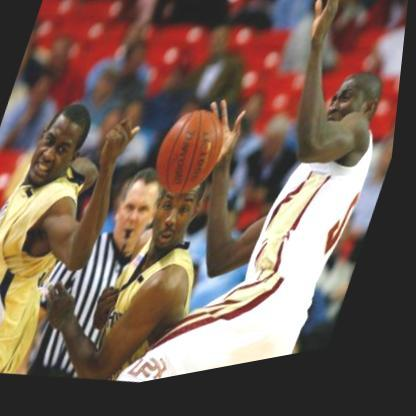basketball: (145, 103, 241, 217)
